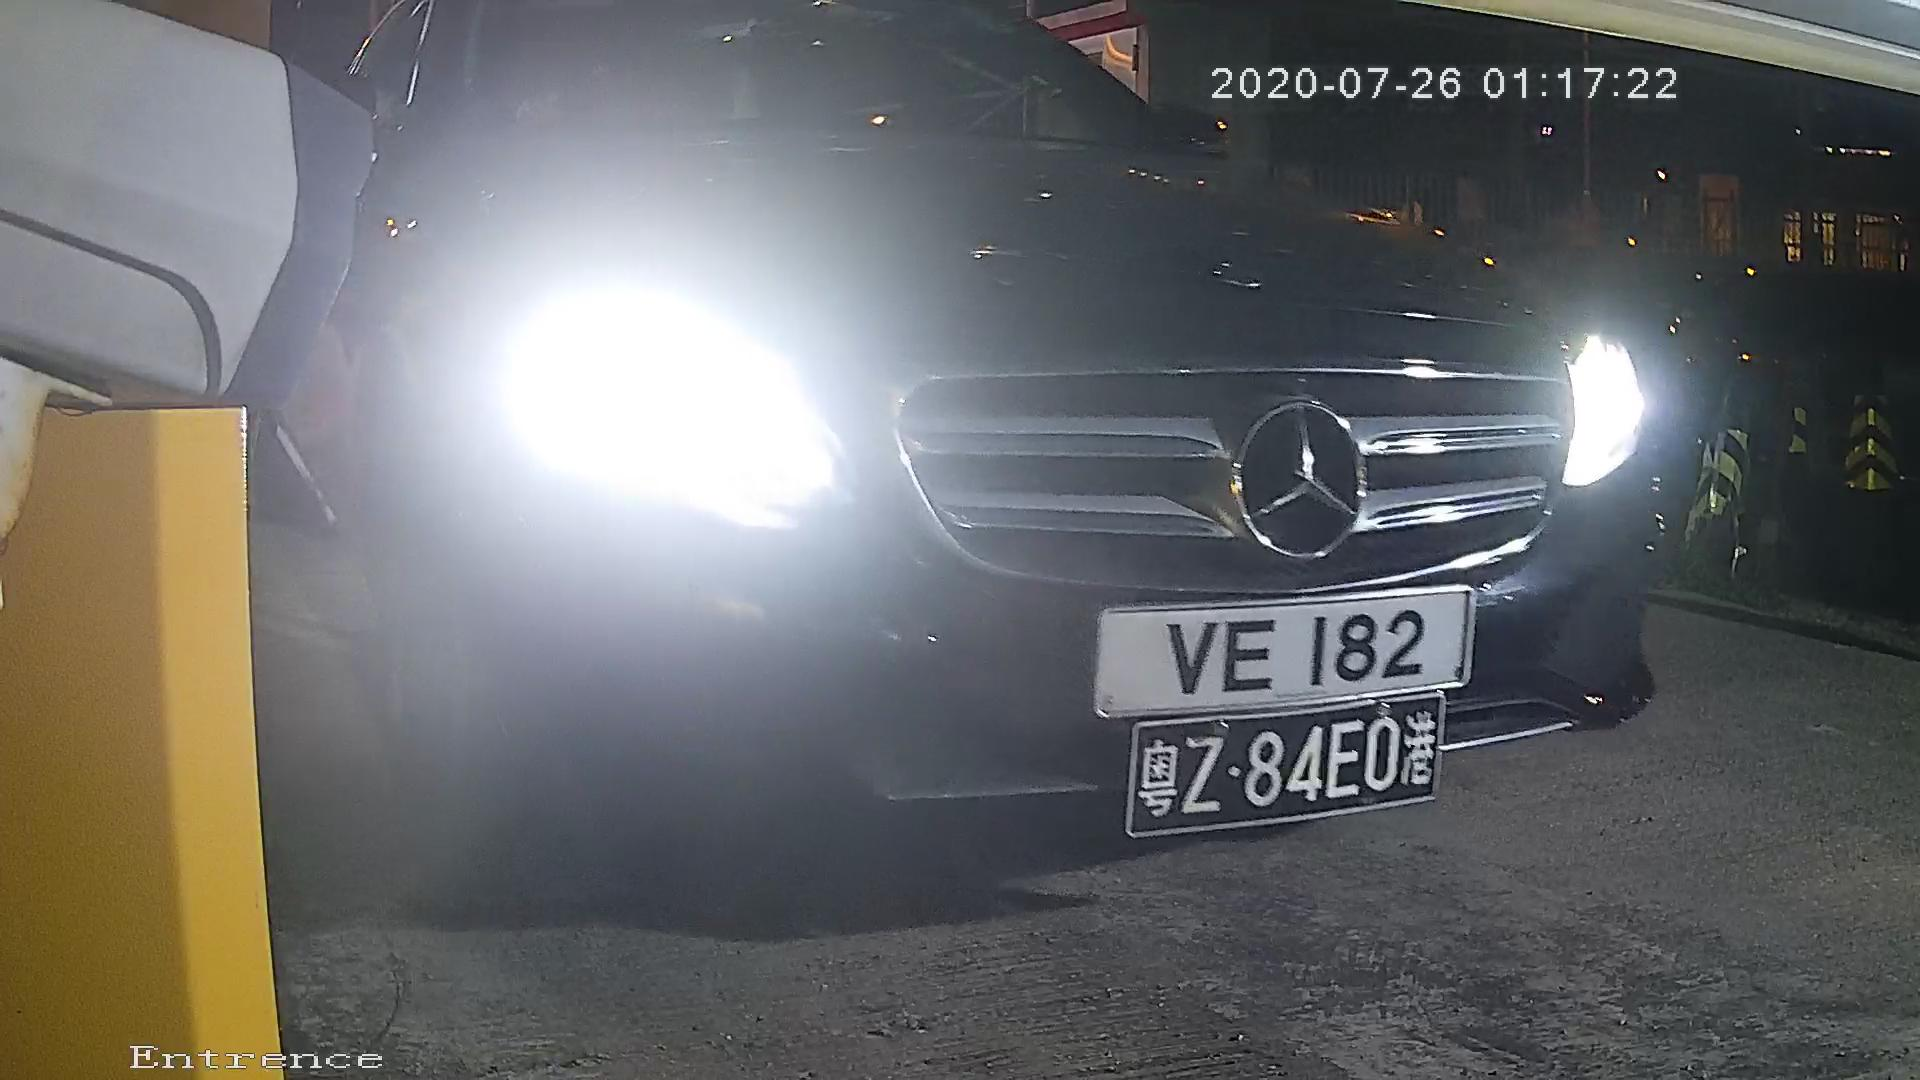Car: (86, 25, 1783, 926)
License Plate: (1055, 574, 1501, 729)
